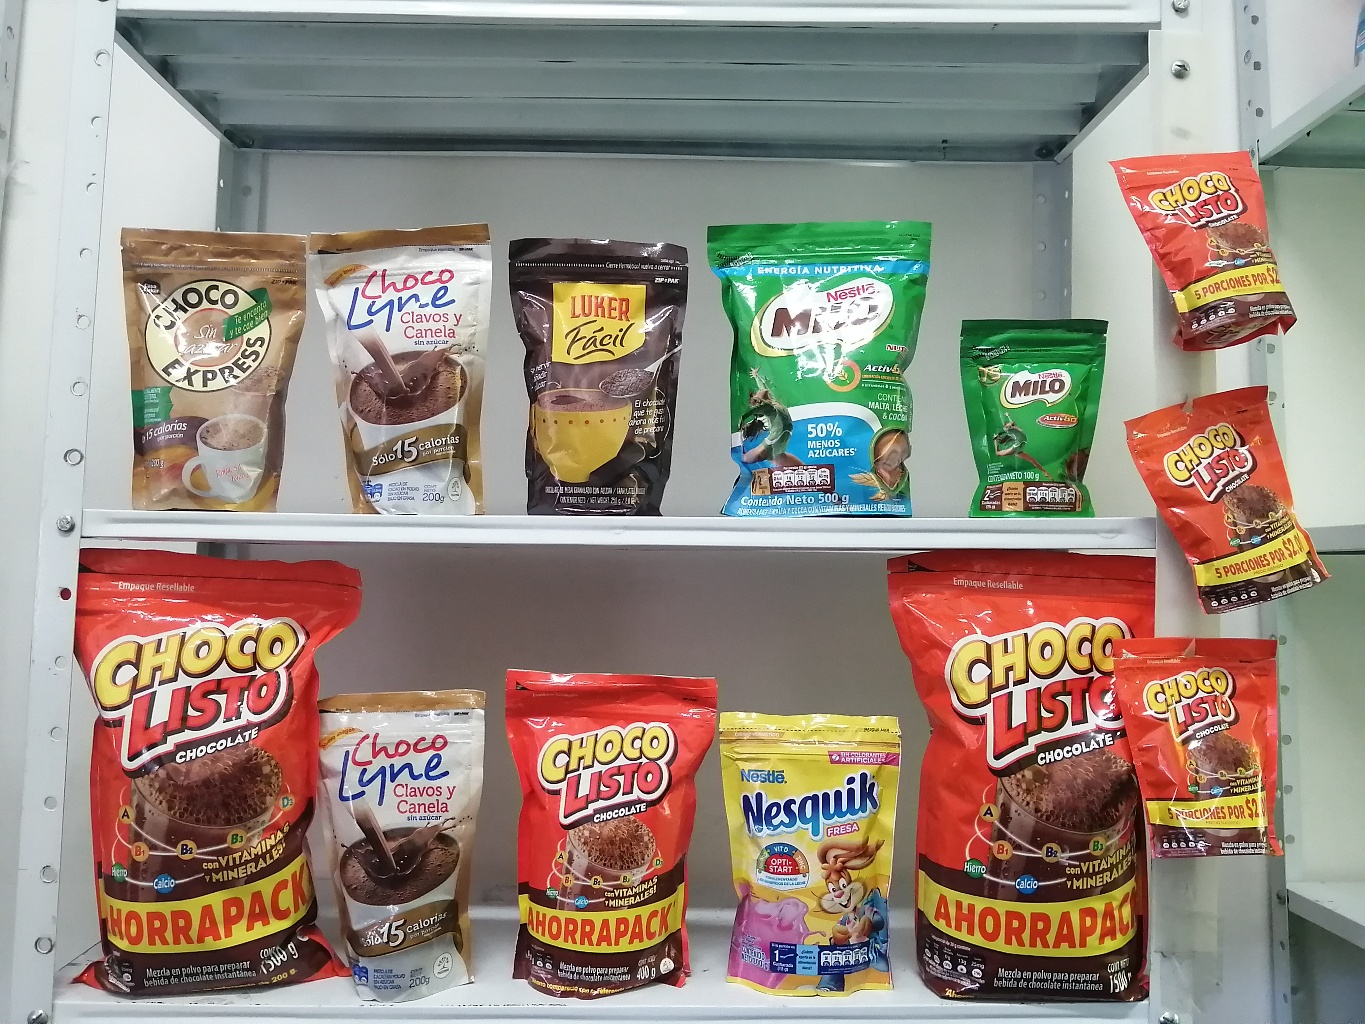COL0170103DYP1,500: (876, 537, 1232, 1012)
COL0170103DYP10000: (1097, 134, 1318, 355)
COL0170103DYP40000: (478, 634, 733, 1007)
COL0170203DYP10000: (934, 299, 1153, 524)
COL0170205DYP50000: (664, 189, 941, 522)
COL0170305DYP20000: (706, 689, 920, 1002)
